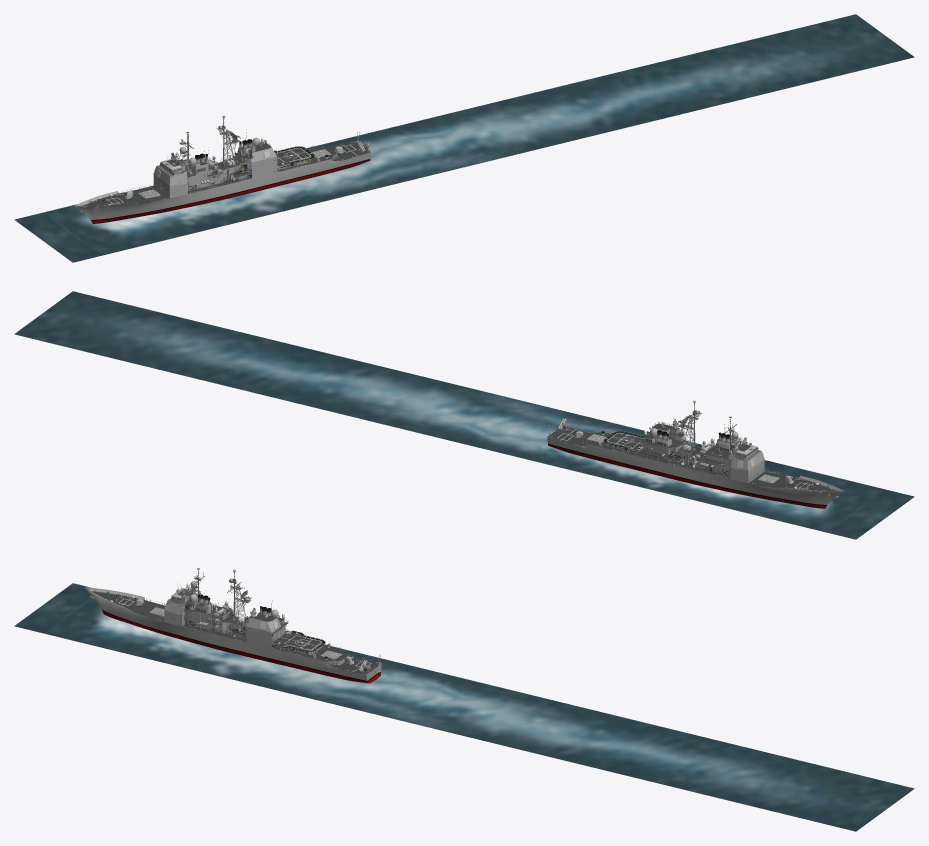
3 views of the same model, one above another, from view 1: azimuth 30°, elevation 25°; view 2: azimuth 150°, elevation 25°; view 3: azimuth 330°, elevation 25° (orthographic).
Visible parts, largest first — view 1: rect, main-model, hull, main-deck, railing; view 2: rect, main-model, hull, main-deck, railing; view 3: rect, main-model, hull, main-deck, railing.
Boxes of the visible parts, box(x1,y1,x2,y2) form: rect: box(14, 14, 914, 262); main-model: box(86, 115, 370, 205); hull: box(75, 152, 370, 223); main-deck: box(83, 142, 369, 207); railing: box(131, 130, 370, 203); rect: box(14, 291, 914, 539); main-model: box(547, 400, 831, 489); hull: box(547, 437, 843, 508); main-deck: box(549, 423, 834, 490); railing: box(548, 410, 790, 488); rect: box(14, 583, 914, 831); main-model: box(97, 568, 381, 674); hull: box(85, 587, 381, 683); main-deck: box(92, 589, 380, 673); railing: box(132, 576, 377, 673).
Size of the model in its own units: 514 by 52.41 by 62.36.
19 materials, 17 textured.
